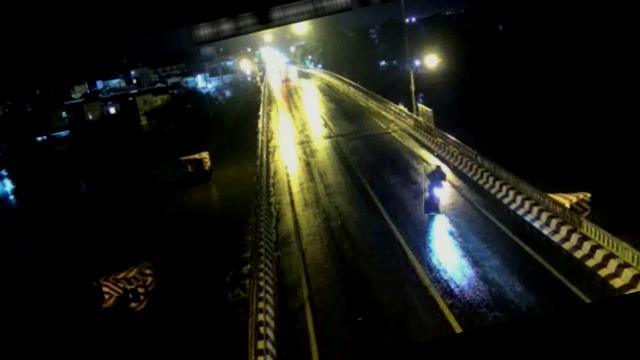Bike: (416, 162, 455, 219)
